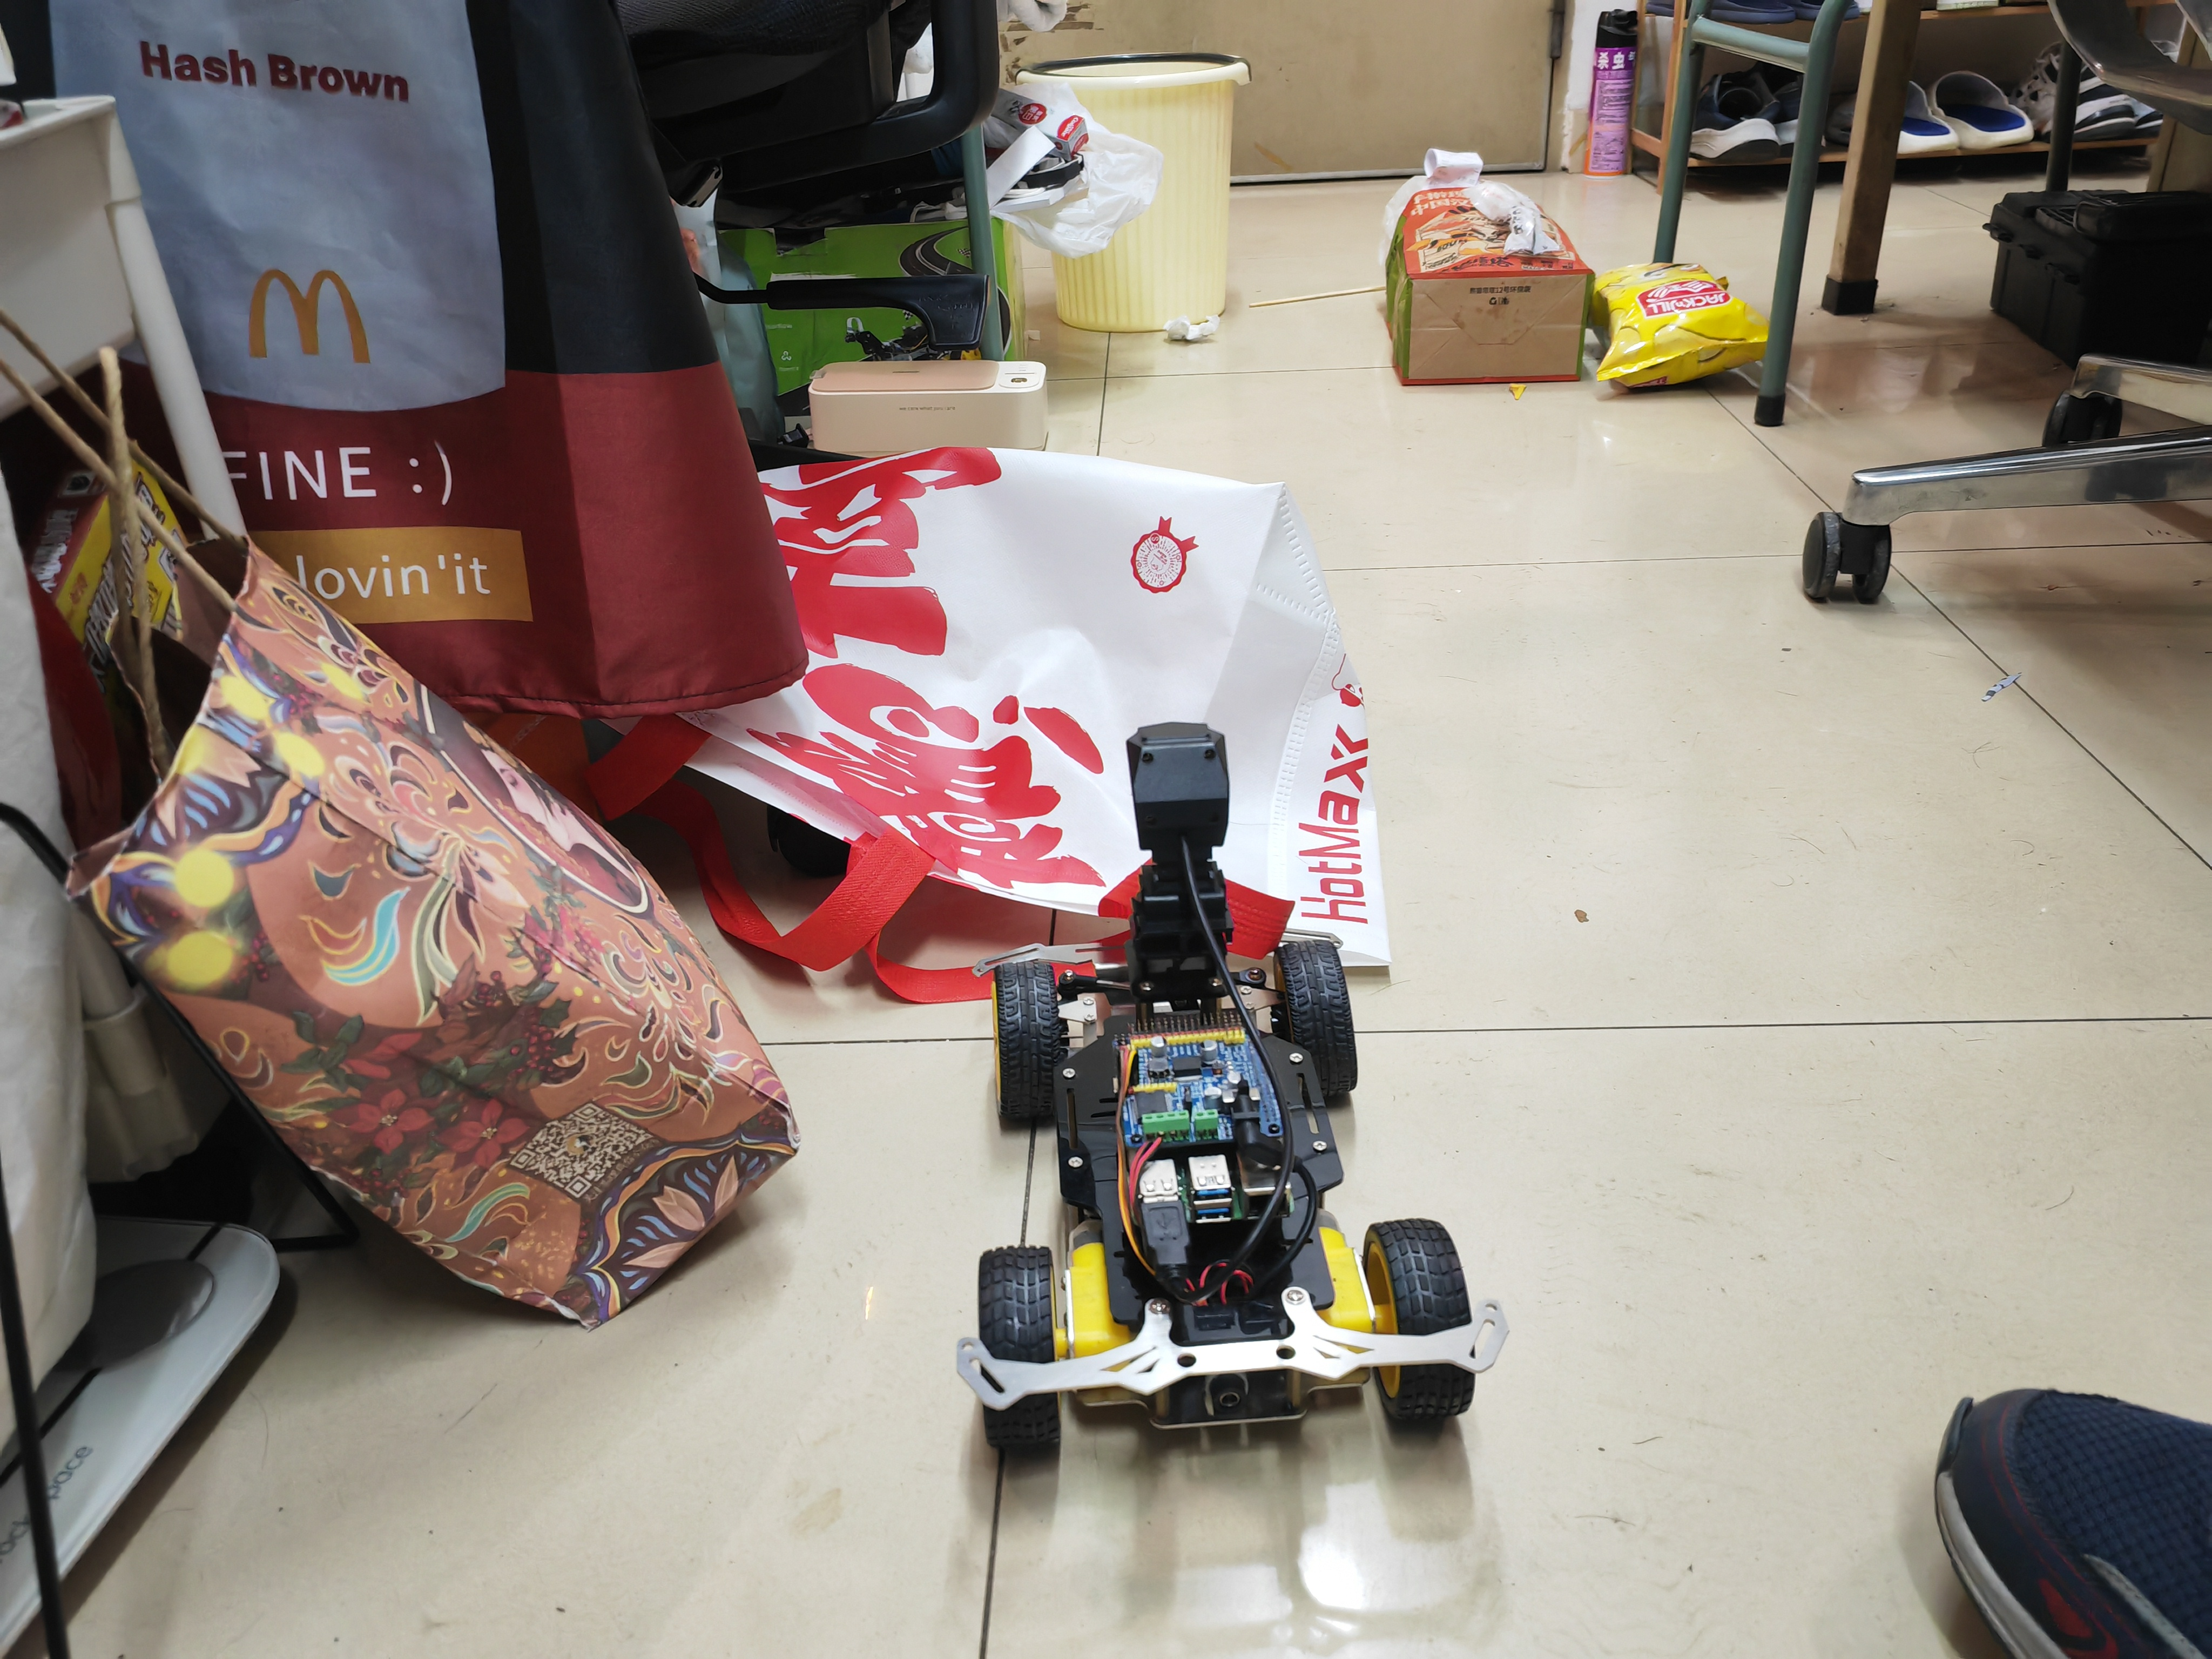car: (944, 714, 1508, 1493)
